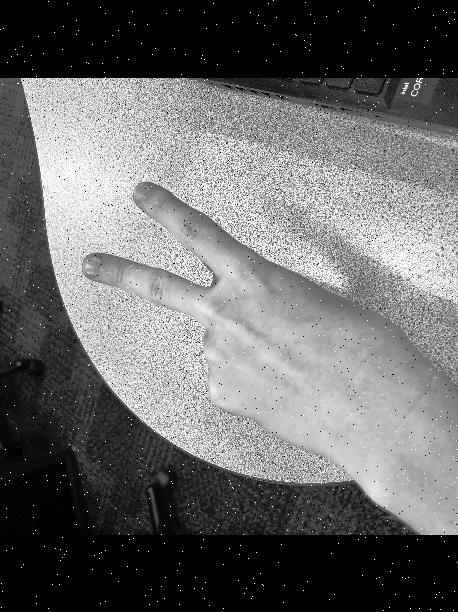Rock: (57, 164, 450, 463)
